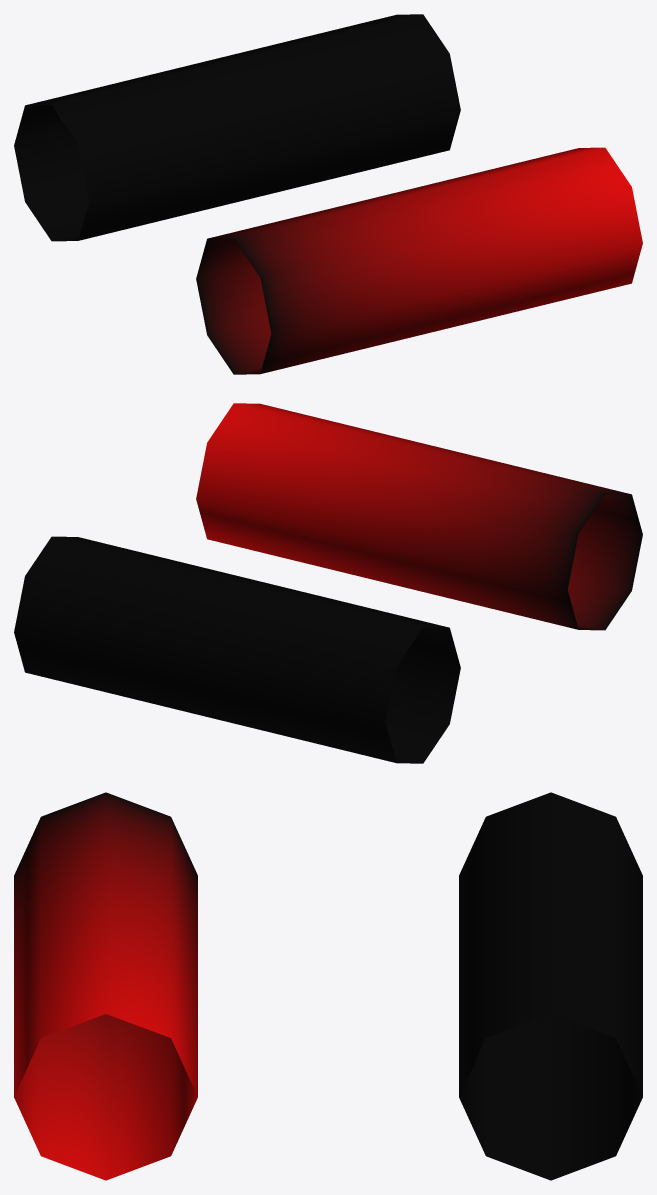
Rendered from RailMid.fbx.
3 views of the same model, one above another, from view 1: azimuth 30°, elevation 25°; view 2: azimuth 150°, elevation 25°; view 3: azimuth 270°, elevation 25° (orthographic). The views are drawn at different scales.
Visible parts, largest first — view 1: RailMid; view 2: RailMid; view 3: RailMid.
Boxes of the visible parts, bbox=[...] form: RailMid: bbox=[14, 14, 642, 374]; RailMid: bbox=[14, 403, 642, 763]; RailMid: bbox=[14, 792, 642, 1180].
Size of the model in its own units: 51.84 by 18.2 by 62.2.
